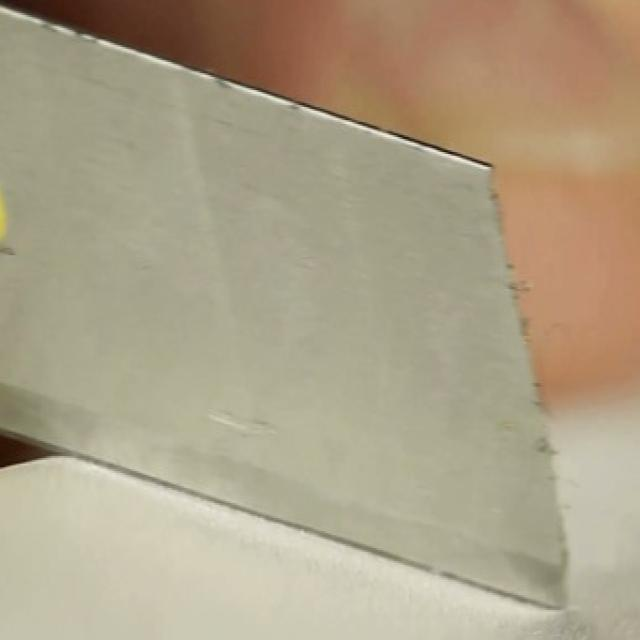knives: (48, 0, 613, 624)
